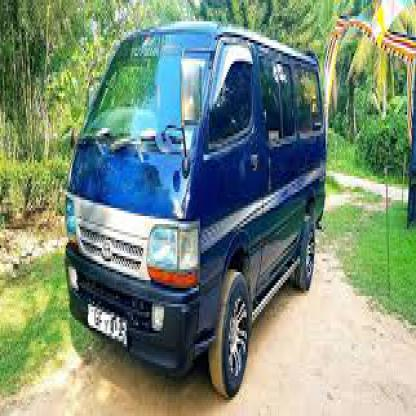van: (63, 21, 327, 403)
